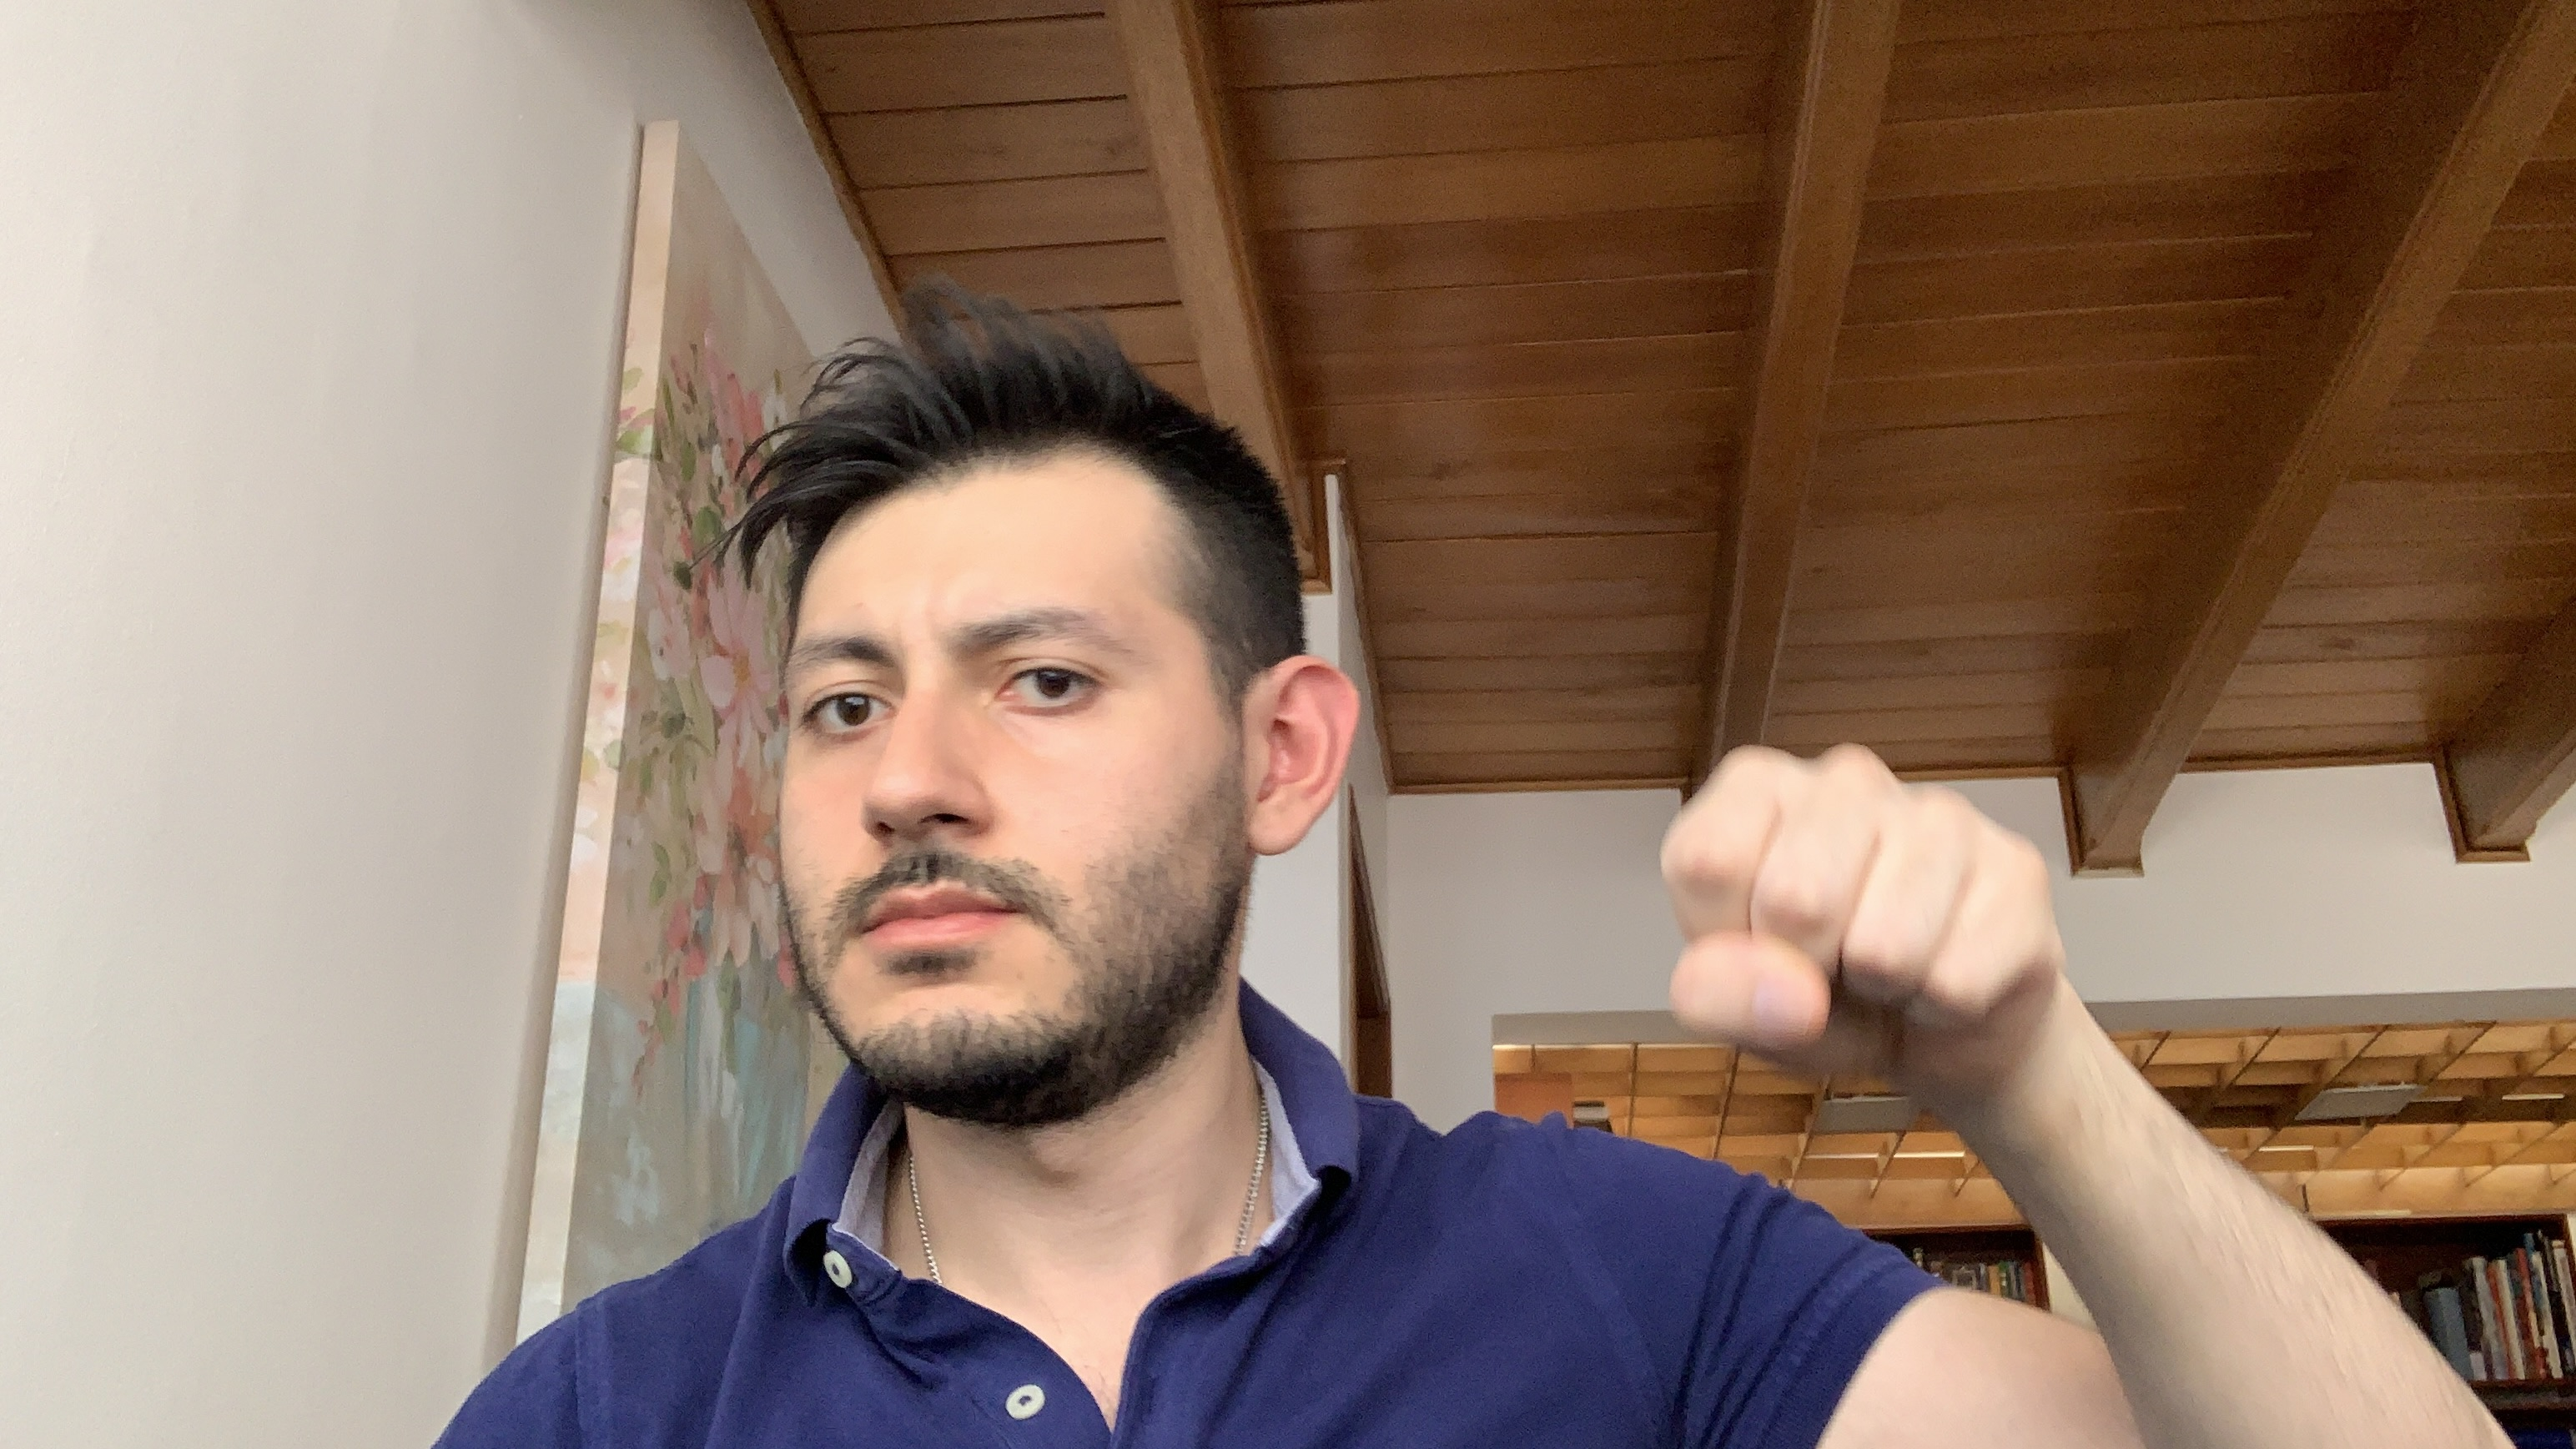Yes: (1631, 729, 2112, 1141)
